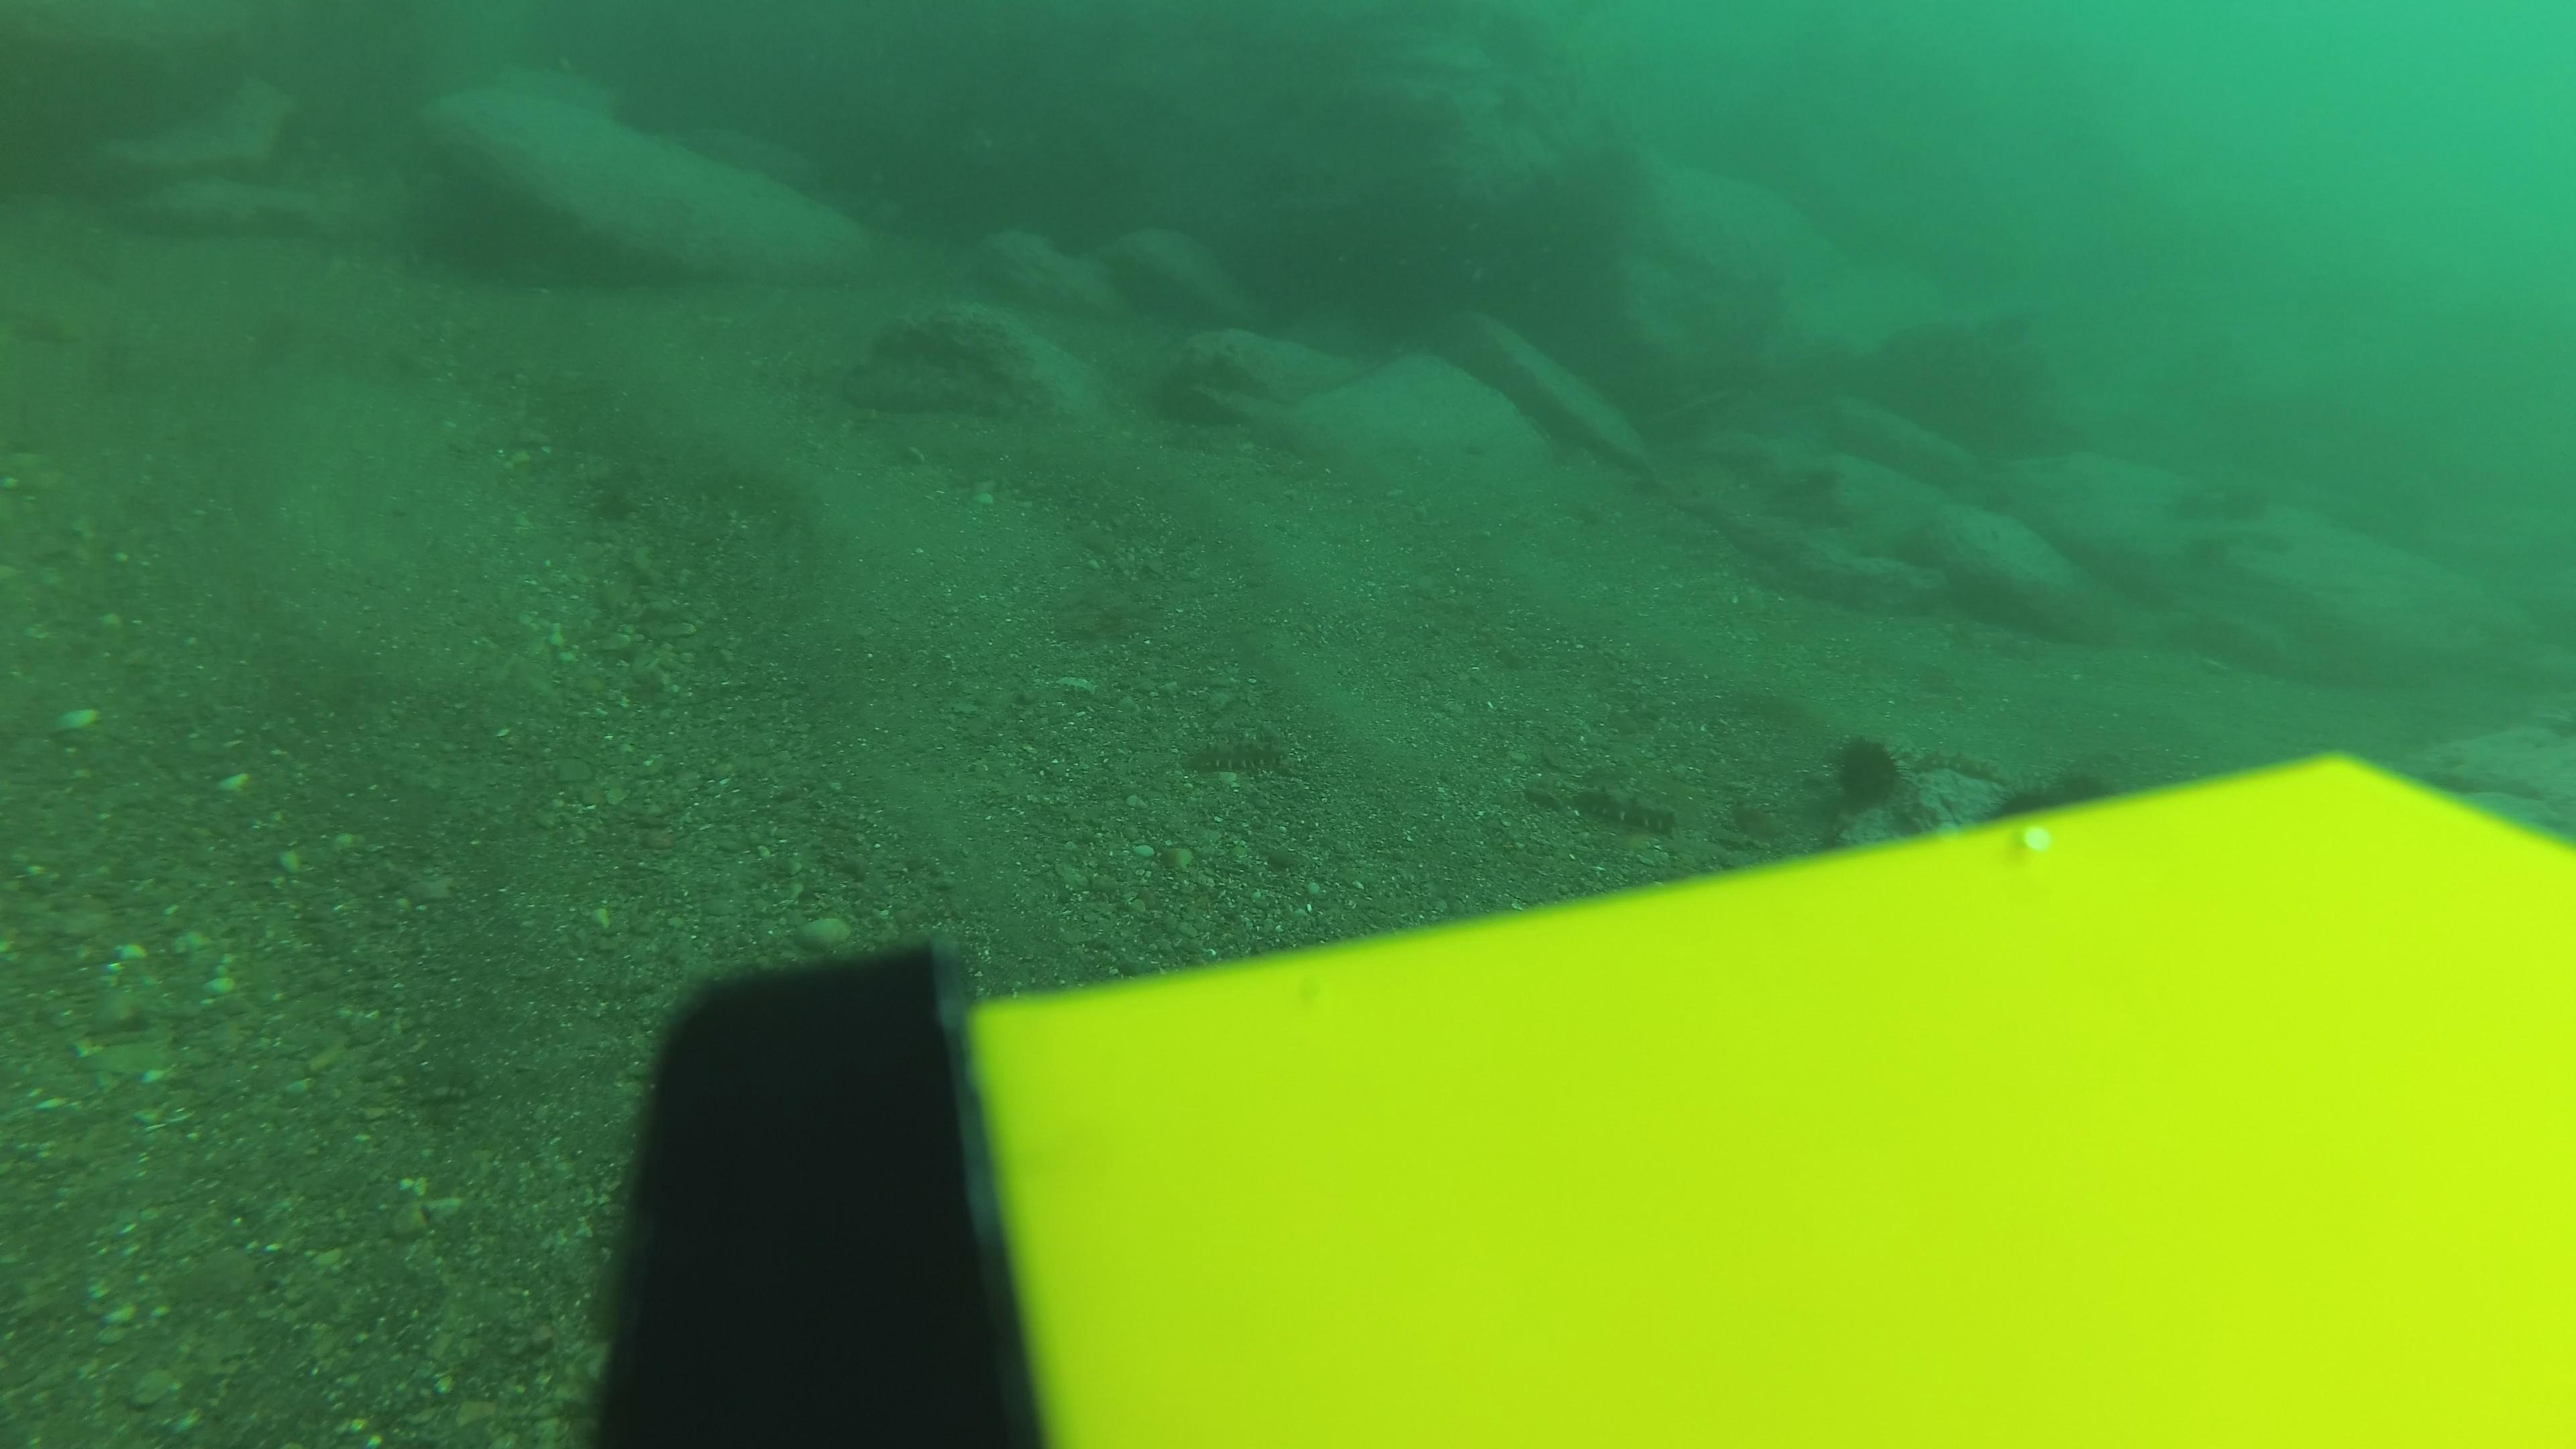echinus: (1826, 727, 1916, 810)
holothurian: (1575, 780, 1683, 839), (1189, 736, 1292, 777)
